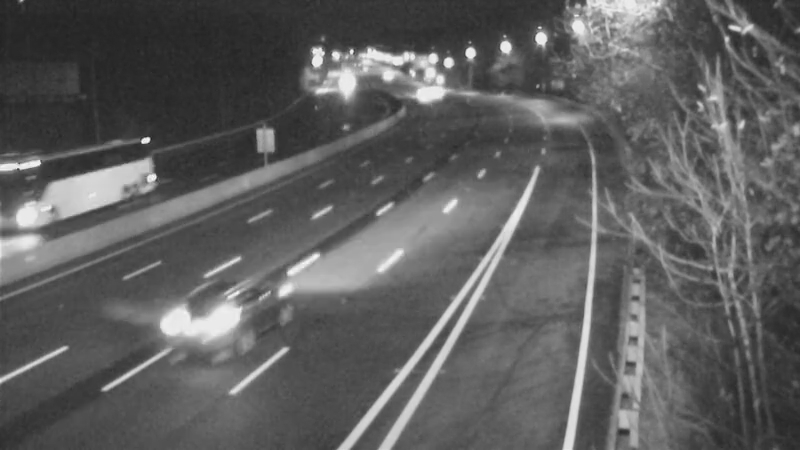vehicle: (150, 266, 260, 376), (26, 156, 106, 236), (412, 65, 462, 115), (392, 70, 442, 120)
